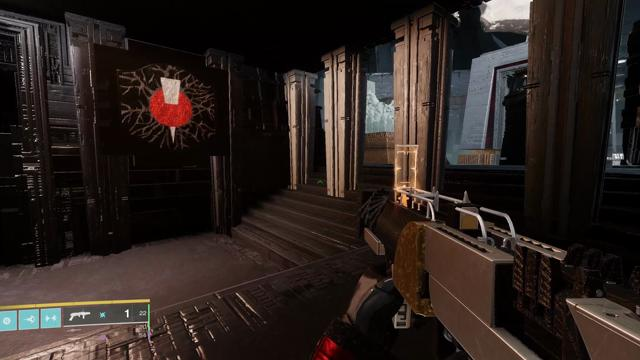kill: (116, 62, 216, 151)
